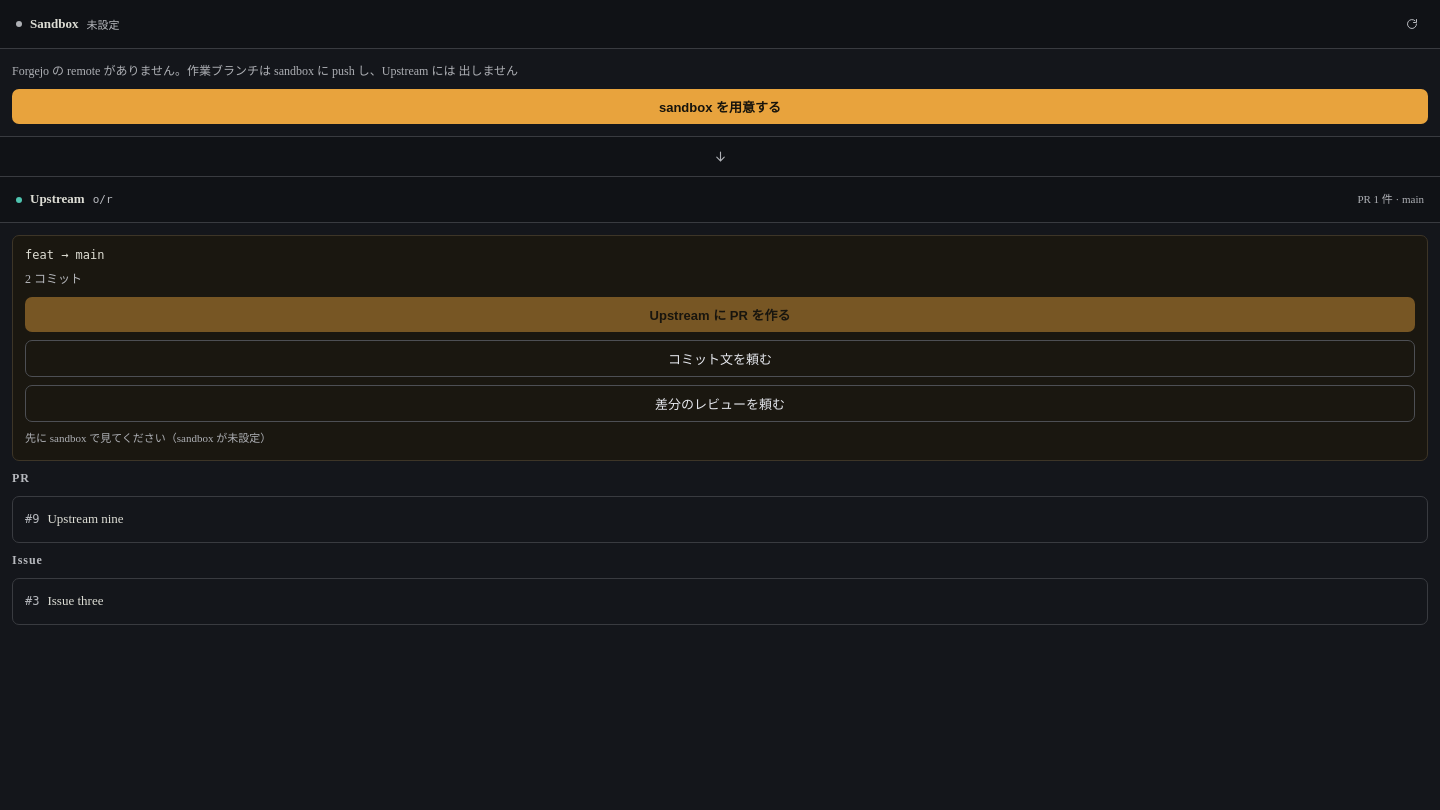
Test: Forge › sandbox が無ければ用意する釦だけ。押すとボットの下に作って remote を足す
The width and height of the screenshot is (1440, 810).
Expected: the text "先に sandbox で見てください（sandbox が未設定）" is shown, [25,432,271,444]
Expected: the button "Upstream に PR を作る" is disabled, [25,297,1415,332]
Click the button "sandbox を用意する" at (720, 107), box [12,89,1428,124]
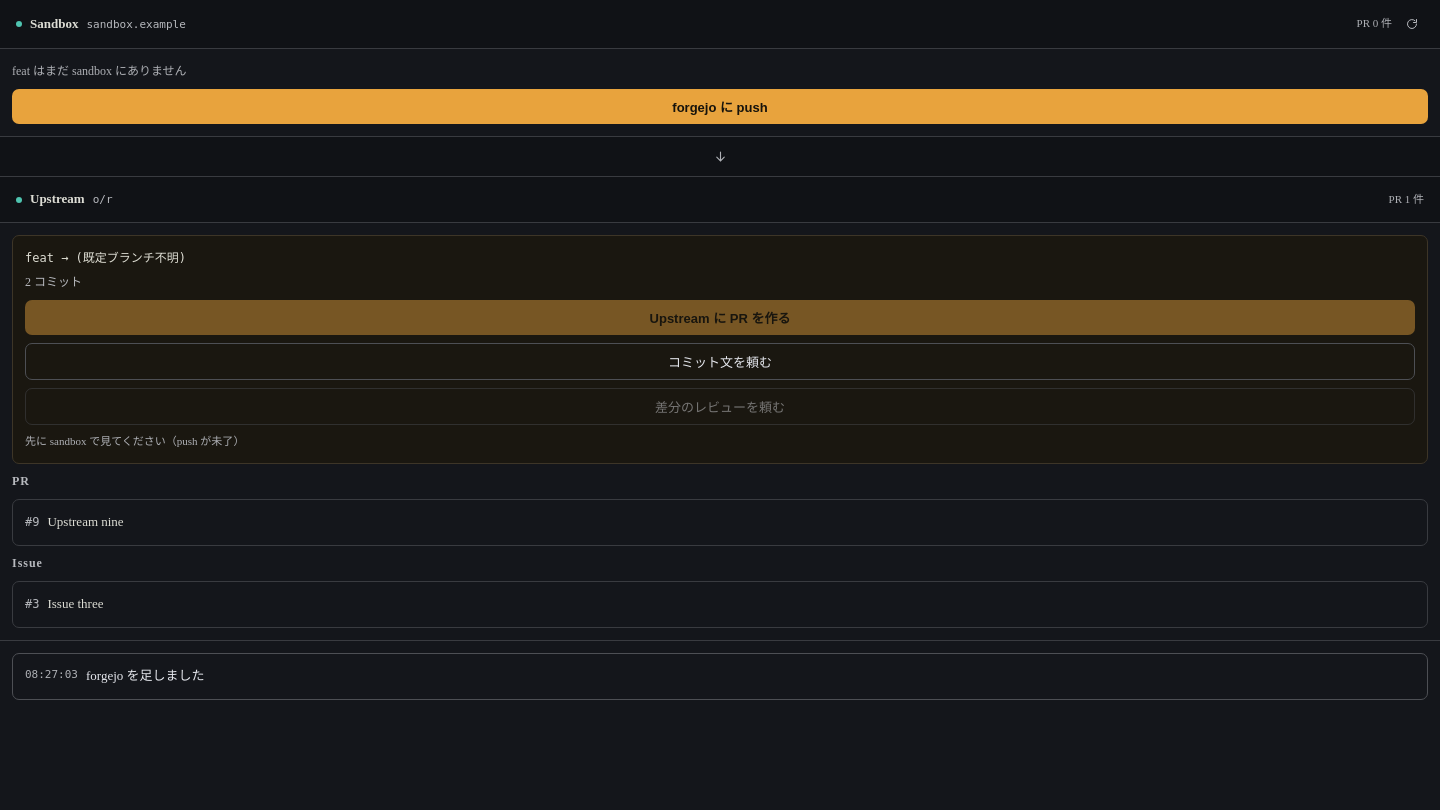
Result: the text "forgejo を足しました" is shown at [86,666,205,687]
